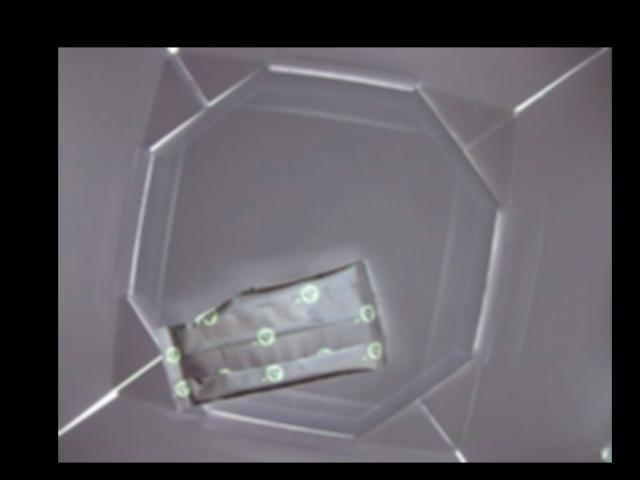Medicine: (155, 261, 387, 412)
